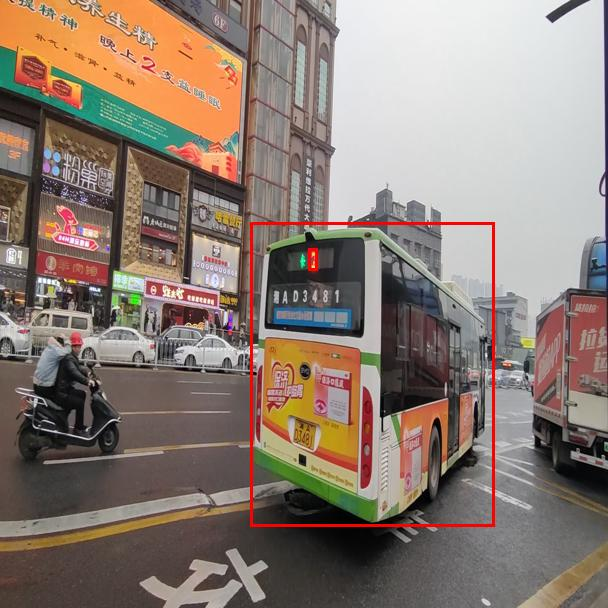bus: (250, 222, 494, 526)
screen: (308, 248, 317, 270)
